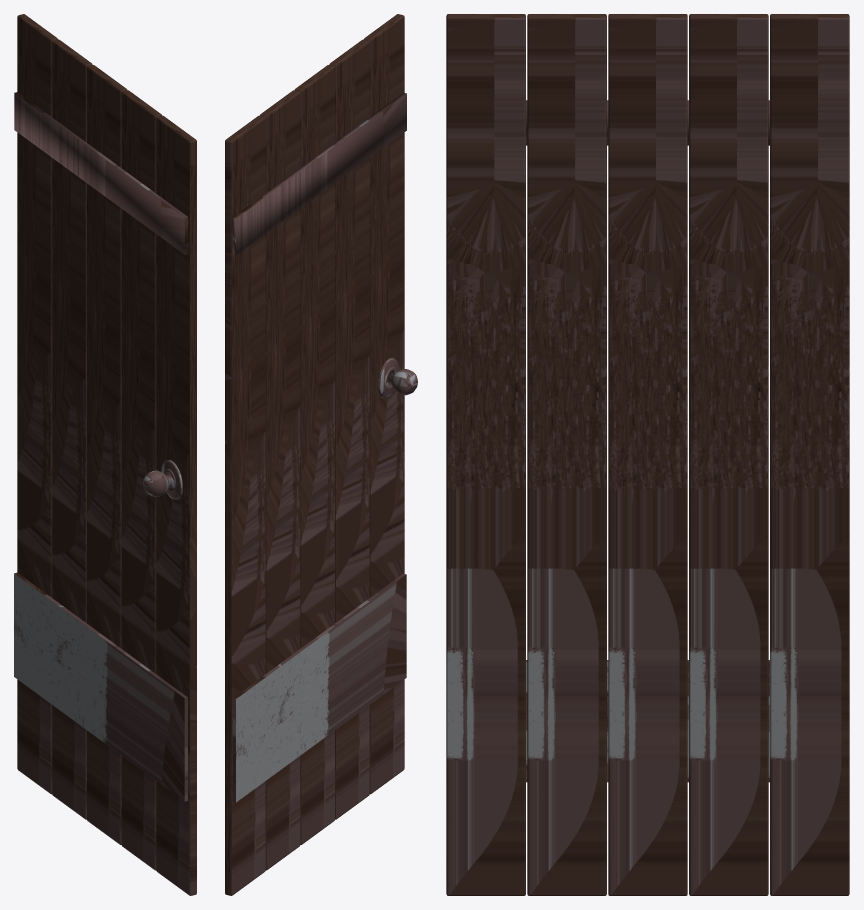
The model's file is Office_Door.fbx.
3 views of the same model, side by side, from view 1: azimuth 30°, elevation 25°; view 2: azimuth 150°, elevation 25°; view 3: azimuth 270°, elevation 25° (orthographic). The views are drawn at different scales.
Parts seen in each view (by area): view 1: Cube.040; view 2: Cube.040; view 3: Cube.040.
Boxes of the visible parts, x1,y1,x2,y2 form: Cube.040: [14, 14, 196, 895]; Cube.040: [225, 14, 417, 895]; Cube.040: [446, 14, 849, 895].
Bounding box in the file's own units: 15.54 × 313 × 130.
